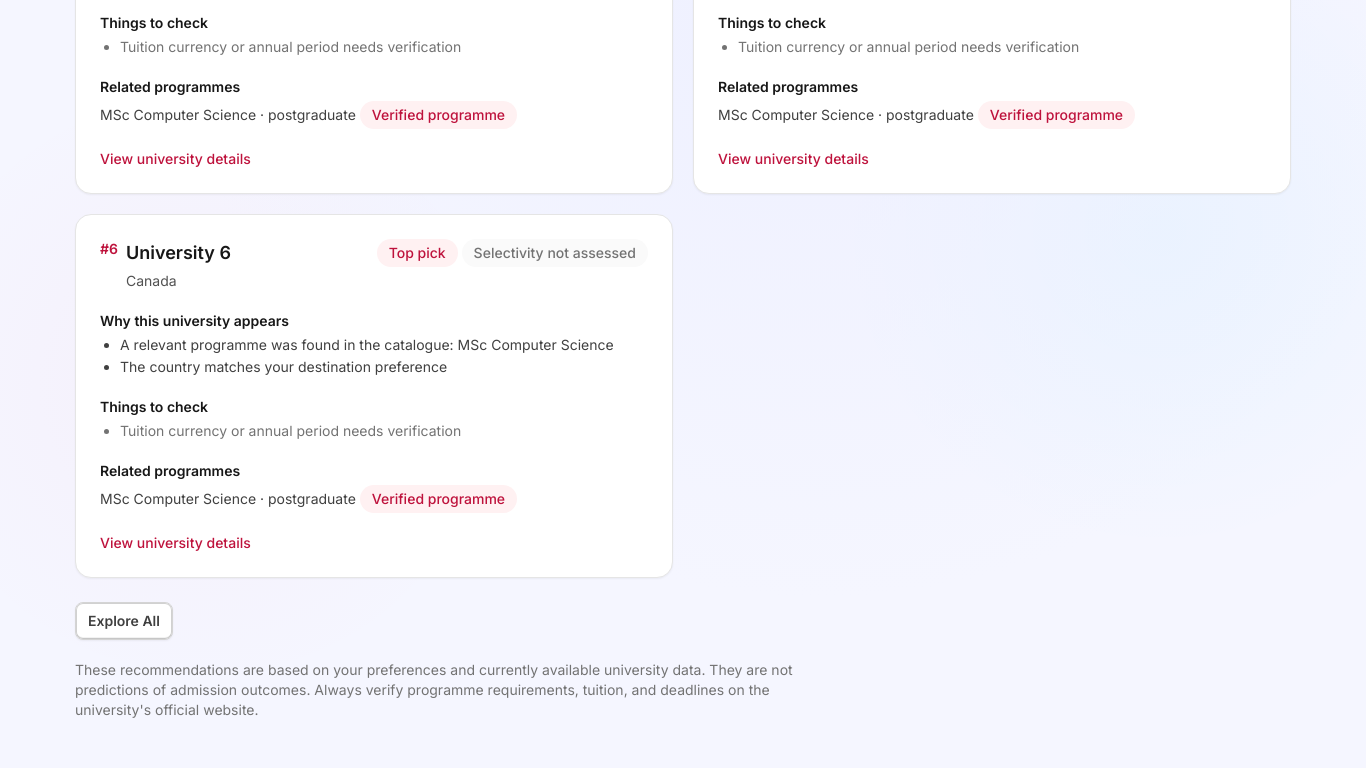
Test: UniversityMatchResults › renders exact six-result split into Best Fits (top 3) and next-ranked options (next 3) with Explore All toggle
(page scrolled)
Check: the text named "Recommendation rank 6" is shown, box [100, 240, 118, 257]
Click the button "Explore All".
click(124, 621)  # box [75, 602, 173, 640]
(page scrolled)
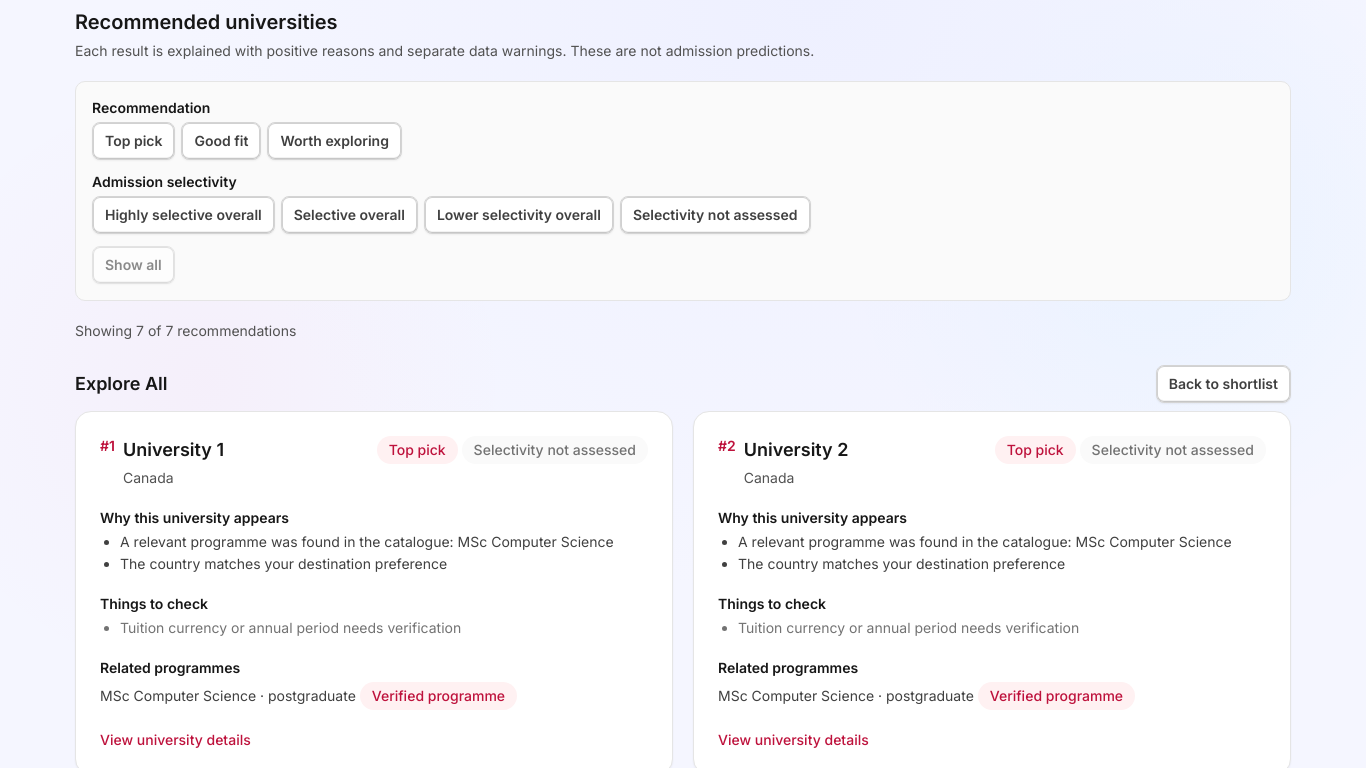
Check: the heading "Explore All" is shown, box [75, 370, 168, 398]
Check: the text "Showing 7 of 7 recommendations" is shown, box [75, 322, 296, 339]
Check: the button "Back to shortlist" is shown
Click the button "Back to shortlist".
click(1223, 384)  # box [1156, 365, 1291, 403]
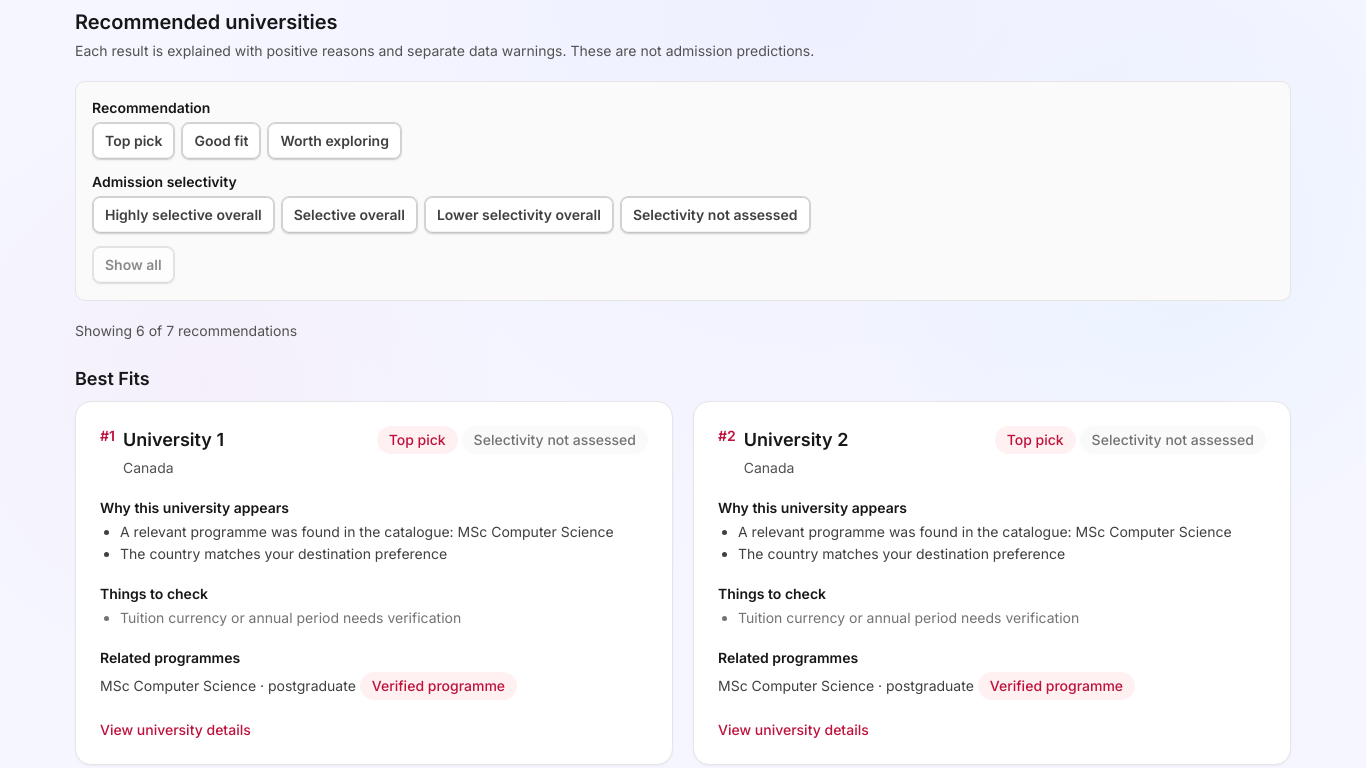
Check: the heading "Best Fits" is shown, box [75, 365, 150, 393]
Check: the text "Showing 6 of 7 recommendations" is shown, box [75, 322, 297, 339]
